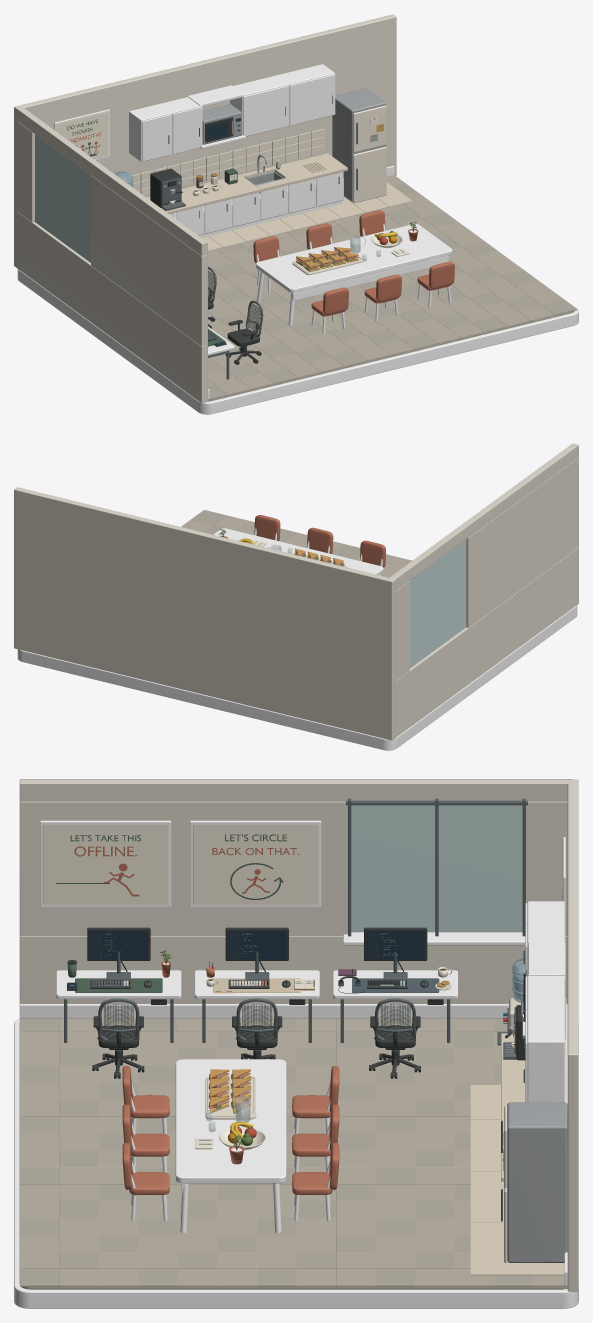
File: corporate-workspace-pantry.glb
3 views of the same model, one above another, from view 1: azimuth 30°, elevation 25°; view 2: azimuth 150°, elevation 25°; view 3: azimuth 270°, elevation 25° (orthographic). The views are drawn at different scales.
Parts seen in each view (by area): view 1: Continuous rear office wall export, Left wall around window export, Left wall around window.002 export, Rounded oak office platform export, Rounded oak communal lunch table rounded top export, Daylight glazing export, Left wall around window.001 export, Office refrigerator body export, Upper pantry cabinet door.003 export, Upper pantry cabinet door.002 export, Office refrigerator door.001 export, Left wall around window.003 export (+26 smaller); view 2: Continuous rear office wall export, Left wall around window export, Left wall around window.002 export, Rounded oak office platform export, Daylight glazing export, Left wall around window.001 export, Left wall around window.003 export, Rounded oak communal lunch table rounded top export, Lunch chair upholstered back.005 export, Lunch chair upholstered back.001 export, Lunch chair upholstered back.003 export; view 3: Daylight glazing export, Left wall around window.002 export, Left wall around window export, Rounded oak office platform export, Left wall around window.001 export, Rounded oak communal lunch table rounded top export, Office refrigerator body export, Circle back poster cream paper export, Offline poster cream paper export, Left oak skirting export, Continuous rear office wall export, Upper pantry cabinet body.001 export (+126 smaller).
Part boxes in pixels (bbox=[...]): Continuous rear office wall export: bbox=[14, 14, 396, 267]; Left wall around window export: bbox=[17, 212, 207, 403]; Left wall around window.002 export: bbox=[91, 175, 207, 346]; Rounded oak office platform export: bbox=[17, 177, 578, 414]; Rounded oak communal lunch table rounded top export: bbox=[256, 224, 452, 292]; Daylight glazing export: bbox=[35, 134, 90, 262]; Left wall around window.001 export: bbox=[16, 106, 207, 255]; Office refrigerator body export: bbox=[332, 88, 385, 201]; Upper pantry cabinet door.003 export: bbox=[289, 74, 335, 125]; Upper pantry cabinet door.002 export: bbox=[243, 85, 288, 136]; Office refrigerator door.001 export: bbox=[353, 146, 386, 203]; Left wall around window.003 export: bbox=[17, 122, 34, 222]; Continuous rear office wall export: bbox=[14, 487, 395, 740]; Left wall around window export: bbox=[395, 547, 578, 737]; Left wall around window.002 export: bbox=[466, 457, 578, 627]; Rounded oak office platform export: bbox=[17, 513, 577, 750]; Daylight glazing export: bbox=[410, 540, 465, 667]; Left wall around window.001 export: bbox=[389, 443, 578, 590]; Left wall around window.003 export: bbox=[395, 581, 409, 680]; Rounded oak communal lunch table rounded top export: bbox=[213, 528, 383, 575]; Lunch chair upholstered back.005 export: bbox=[254, 515, 280, 540]; Lunch chair upholstered back.001 export: bbox=[360, 540, 385, 567]; Lunch chair upholstered back.003 export: bbox=[307, 527, 333, 553]; Daylight glazing export: bbox=[351, 805, 522, 932]; Left wall around window.002 export: bbox=[19, 801, 347, 936]; Left wall around window export: bbox=[19, 936, 567, 1019]; Rounded oak office platform export: bbox=[14, 1018, 578, 1308]; Left wall around window.001 export: bbox=[19, 779, 572, 801]; Rounded oak communal lunch table rounded top export: bbox=[175, 1059, 286, 1183]; Office refrigerator body export: bbox=[507, 1102, 567, 1262]; Circle back poster cream paper export: bbox=[193, 825, 317, 904]; Offline poster cream paper export: bbox=[43, 825, 167, 904]; Left oak skirting export: bbox=[19, 1004, 567, 1018]; Continuous rear office wall export: bbox=[567, 779, 578, 1291]; Upper pantry cabinet body.001 export: bbox=[527, 975, 564, 1102].
Bounding box in the file's own units: 8.96 × 3.86 × 7.76.
